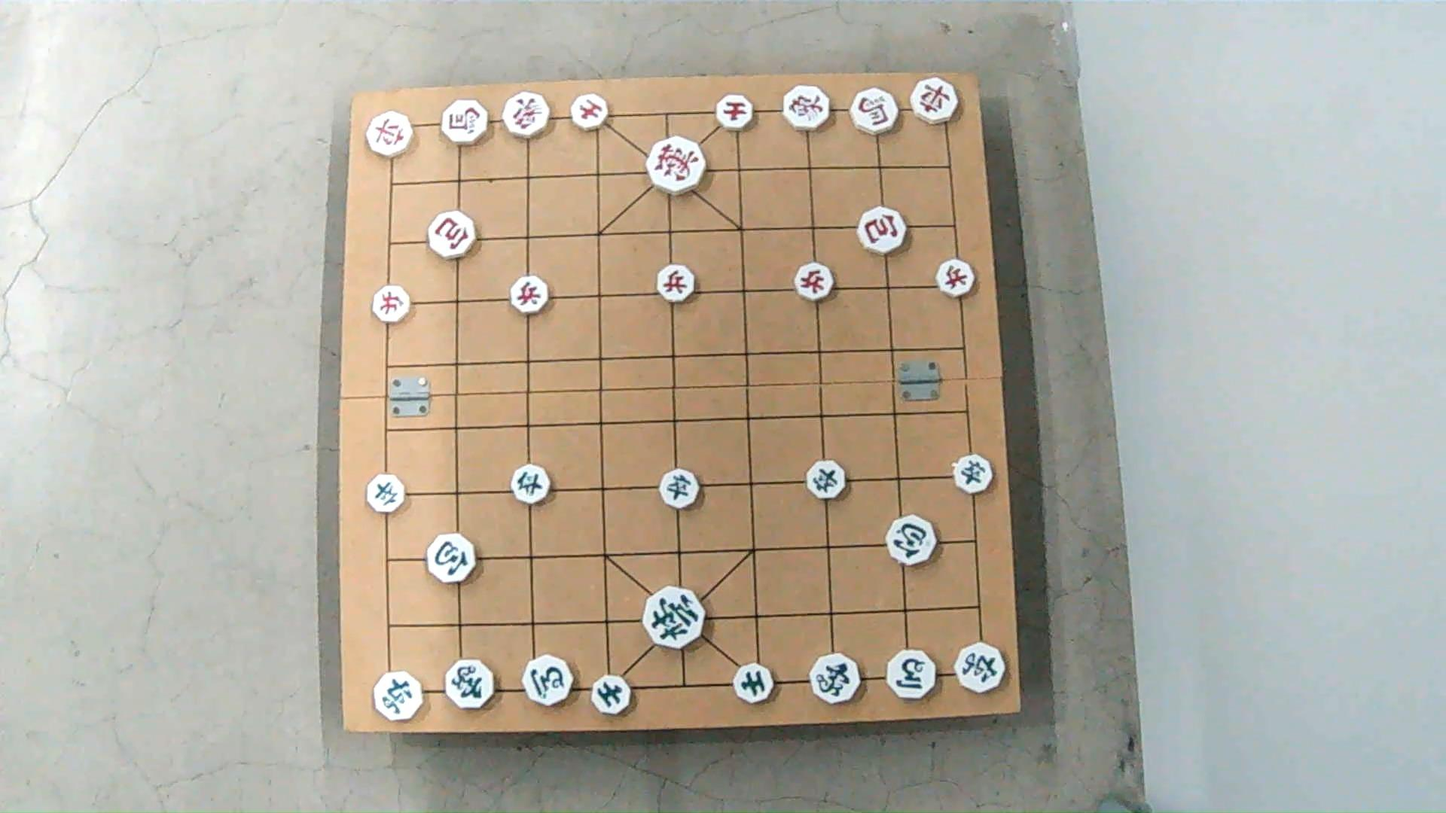cha_green: (952, 645, 1007, 692), (374, 672, 427, 719)
cha_red: (910, 79, 962, 123), (368, 115, 419, 156)
jol_green: (508, 466, 553, 502), (657, 470, 703, 505), (953, 457, 998, 492), (806, 462, 850, 497), (365, 475, 409, 509)
jol_red: (655, 266, 696, 301), (937, 262, 979, 296), (795, 266, 837, 300), (509, 280, 551, 314), (375, 289, 416, 323)
ma_green: (523, 657, 576, 705), (885, 653, 938, 699)
ma_red: (851, 90, 905, 132), (442, 104, 491, 145)
po_green: (427, 535, 480, 582), (888, 521, 941, 565)
po_red: (858, 210, 909, 253), (429, 215, 479, 256)
sa_green: (735, 665, 776, 708), (591, 676, 633, 714)
sa_red: (570, 95, 612, 129), (715, 96, 758, 129)
sang_green: (809, 656, 864, 703), (444, 658, 496, 707)
sang_red: (505, 96, 556, 140), (780, 87, 831, 129)
wang_green: (643, 592, 707, 648)
wang_red: (647, 138, 706, 190)
